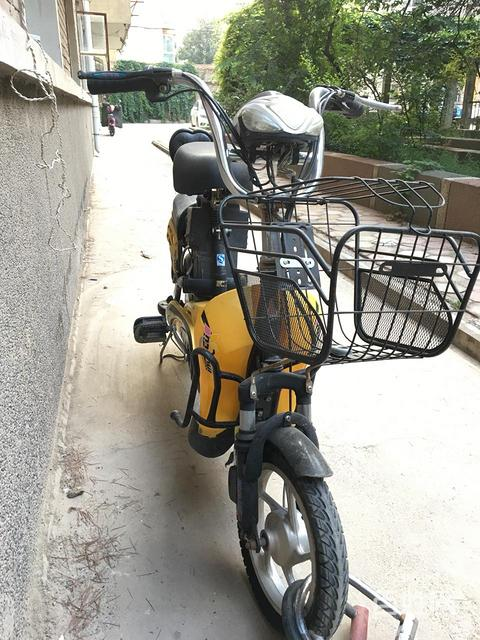电动车: (76, 55, 477, 640)
